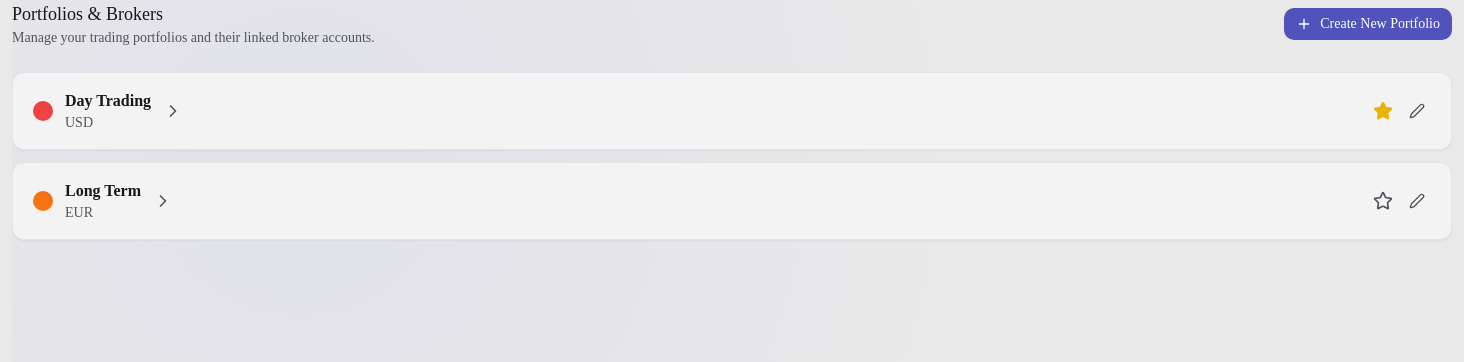
Test: PortfoliosBrokersHub › shows Inactive badge for inactive accounts
Click the button "Day Trading USD": (108, 100) [33, 89, 1359, 133]
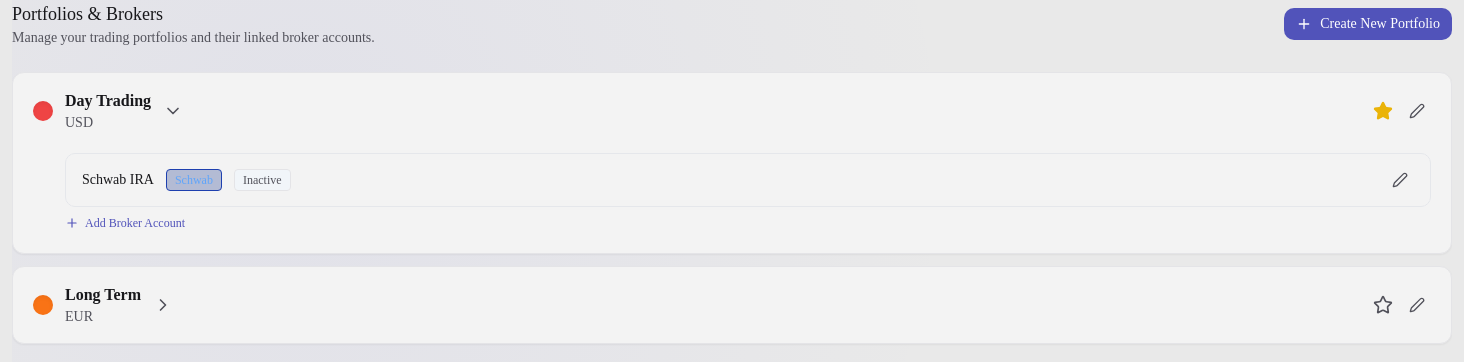
Expected: the text "Inactive" is shown, [234, 169, 291, 191]
